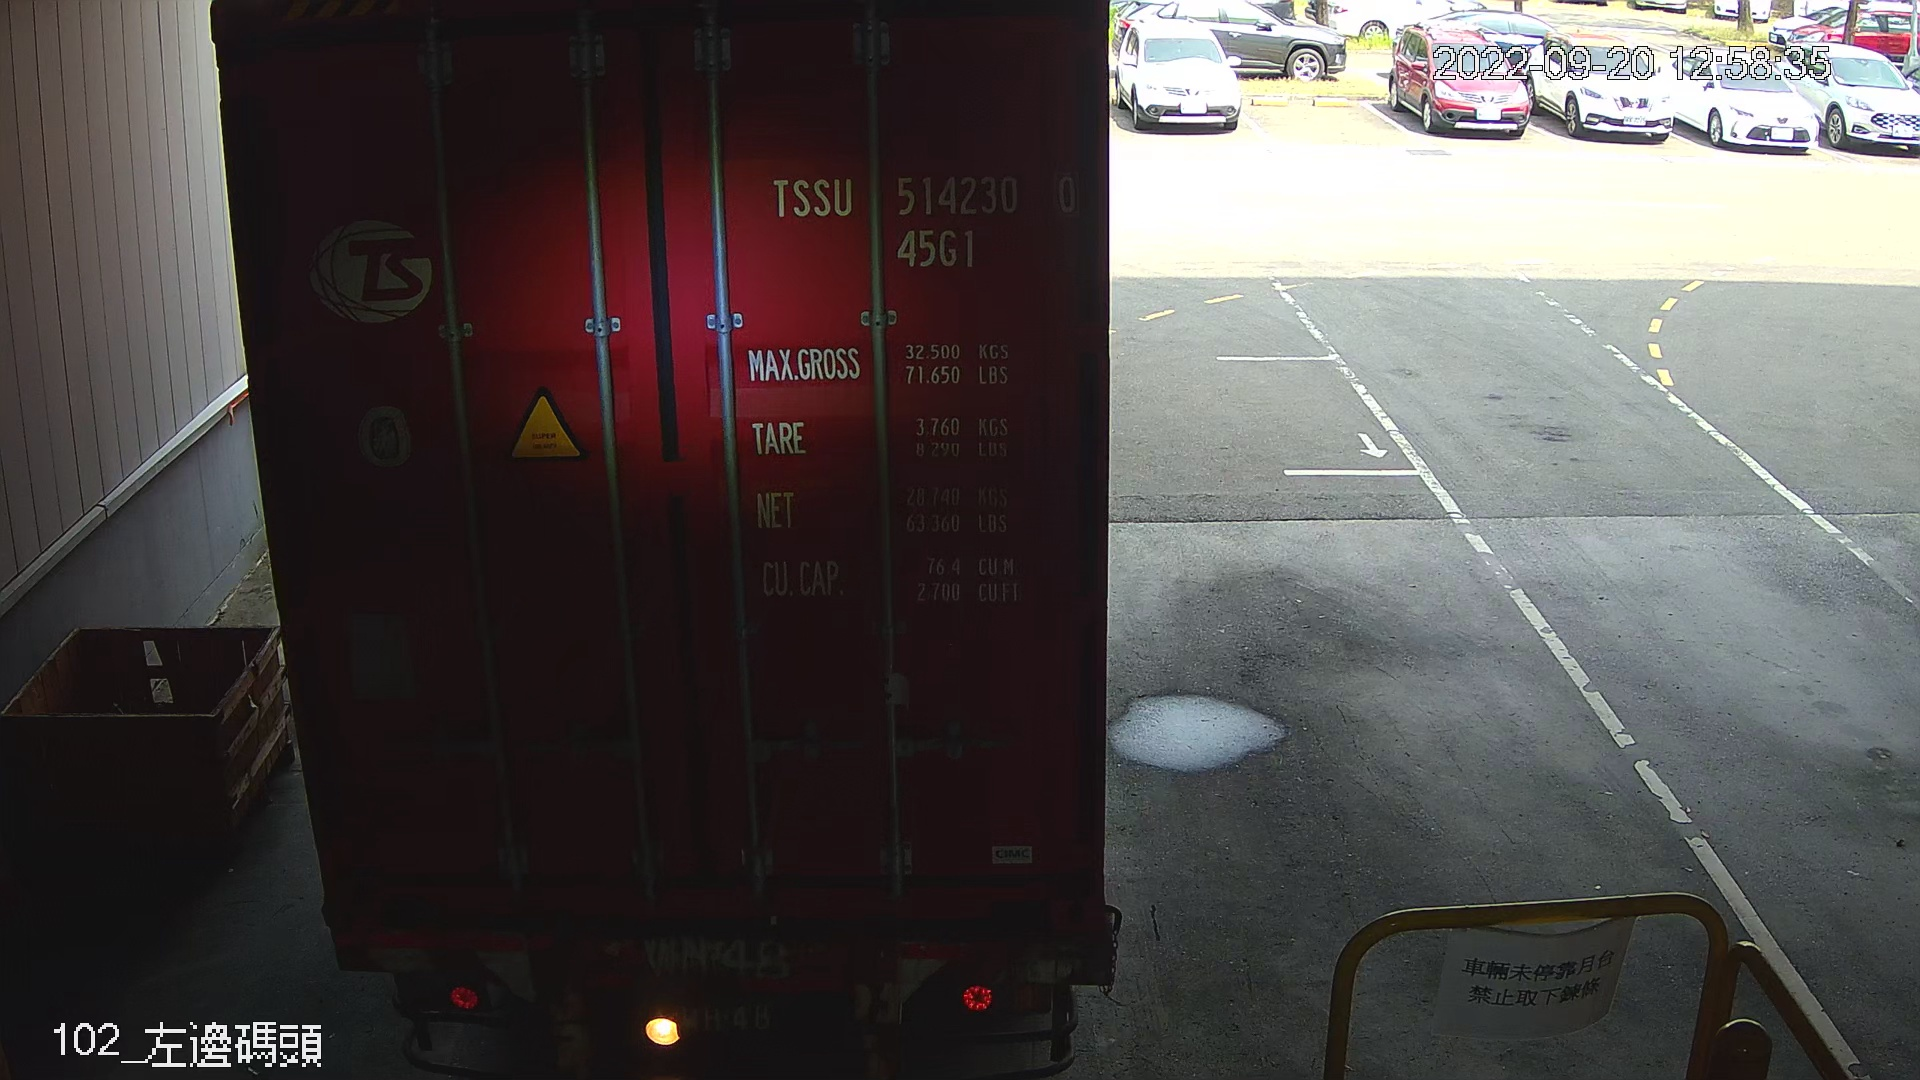container: (756, 152, 1095, 284)
